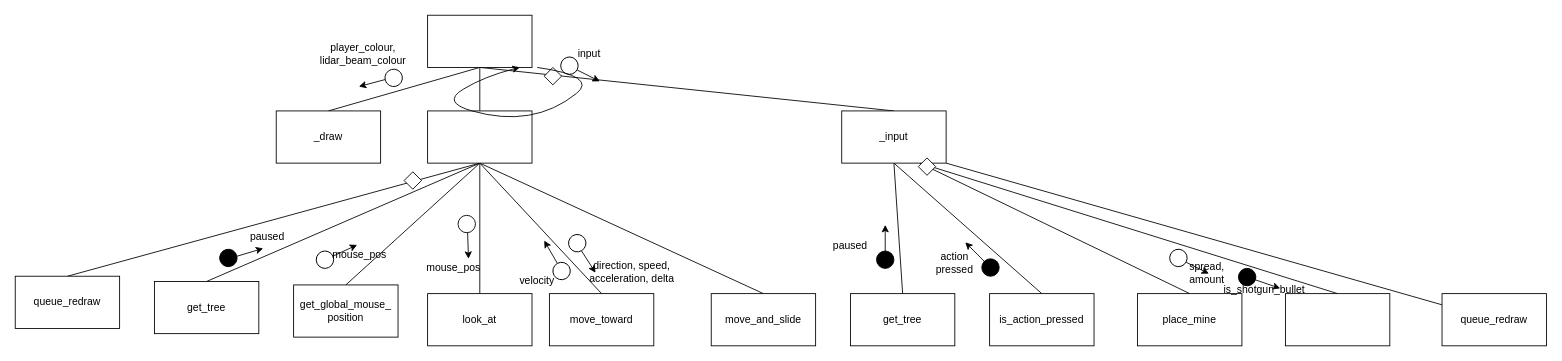
Some shapes in this 1562 by 361 pixel diagram are drawn without their labels. Here are the shapes that lost their labels. From the top down, the box of each, then its label:
(427, 14, 532, 67): Player
(427, 110, 532, 163): _physics_process
(1285, 293, 1390, 346): create_dots
